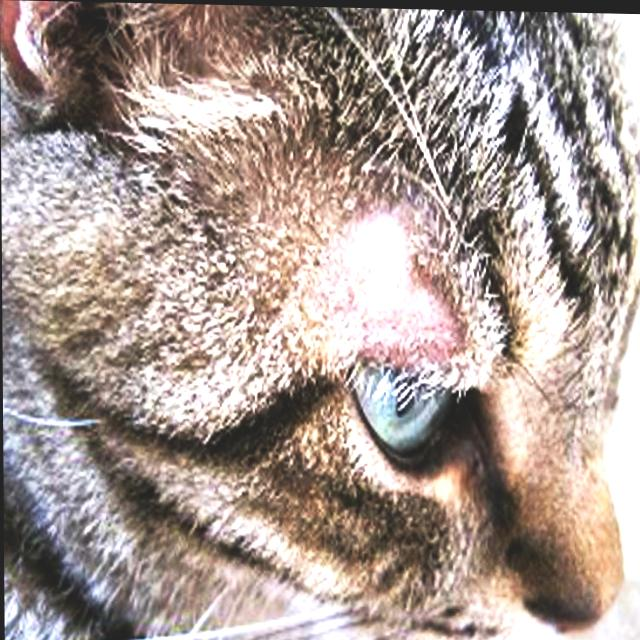hairloss: (363, 224, 451, 333)
